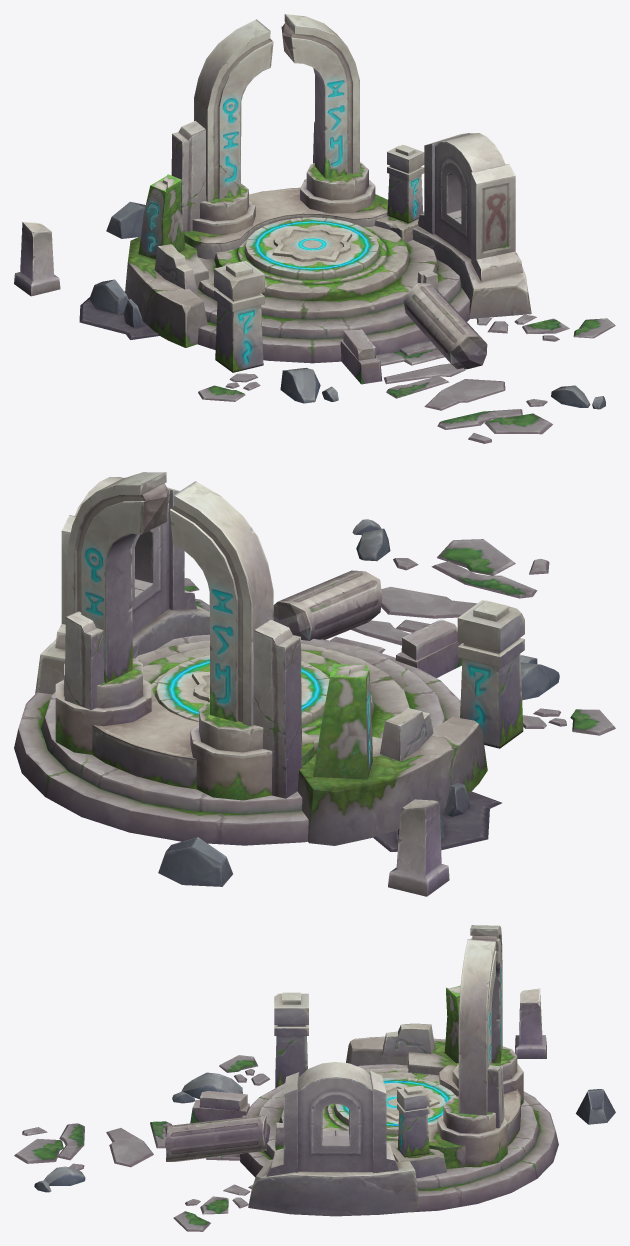
Rendered from boss1.FBX.
The picture shows the model from 3 angles, top to bottom: view 1: azimuth 30°, elevation 25°; view 2: azimuth 150°, elevation 25°; view 3: azimuth 270°, elevation 25°; orthographic projection. The views are drawn at different scales.
Parts seen in each view (by area): view 1: BOSS1; view 2: BOSS1; view 3: BOSS1.
Boxes of the visible parts, x1,y1,x2,y2 form: BOSS1: (14,14,615,443); BOSS1: (14,472,615,896); BOSS1: (14,925,615,1231).
Size of the model in its own units: 1420 by 767 by 1940.
